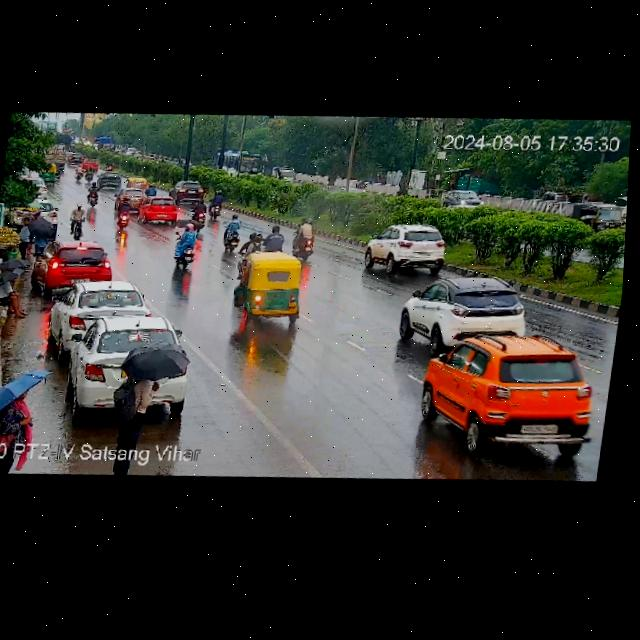bus: (213, 147, 267, 183)
car: (415, 318, 612, 468), (50, 306, 200, 426), (390, 268, 528, 358), (48, 273, 150, 338), (363, 217, 462, 279), (231, 246, 309, 324), (30, 232, 121, 290), (568, 194, 628, 232), (438, 184, 493, 219), (138, 194, 181, 227), (171, 178, 208, 204), (90, 170, 126, 191), (45, 155, 67, 181), (115, 187, 148, 204), (126, 175, 151, 192), (70, 161, 84, 182)
motorcycle: (168, 222, 206, 271), (288, 218, 322, 262), (216, 214, 246, 254), (187, 197, 212, 230), (111, 198, 135, 231), (262, 225, 287, 254), (207, 189, 231, 219), (83, 184, 105, 206), (357, 177, 368, 193)
person: (109, 361, 170, 446), (0, 387, 37, 449), (21, 210, 54, 259), (0, 266, 31, 317), (65, 201, 91, 243)
truck: (41, 141, 72, 172), (269, 163, 295, 186), (96, 135, 116, 155)
